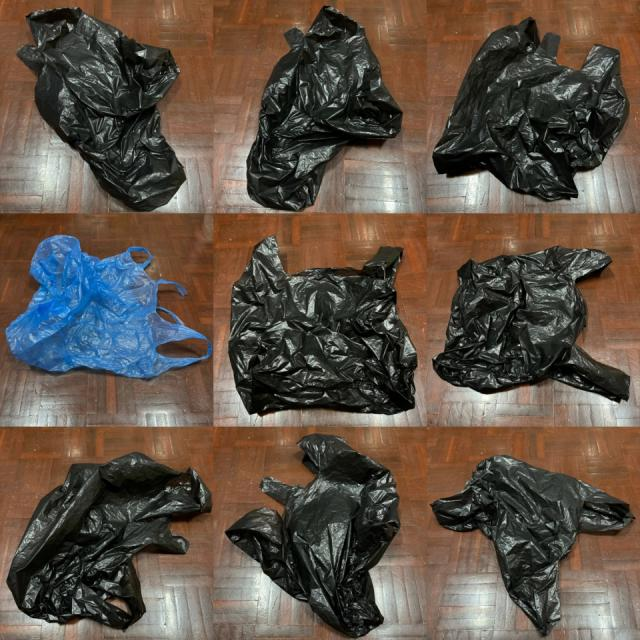Single-layer Plastic: (431, 455, 634, 636), (8, 452, 211, 629), (432, 18, 629, 200), (226, 434, 400, 638), (16, 8, 186, 211), (229, 236, 418, 413), (248, 6, 402, 209), (432, 246, 630, 401), (6, 235, 211, 378)
